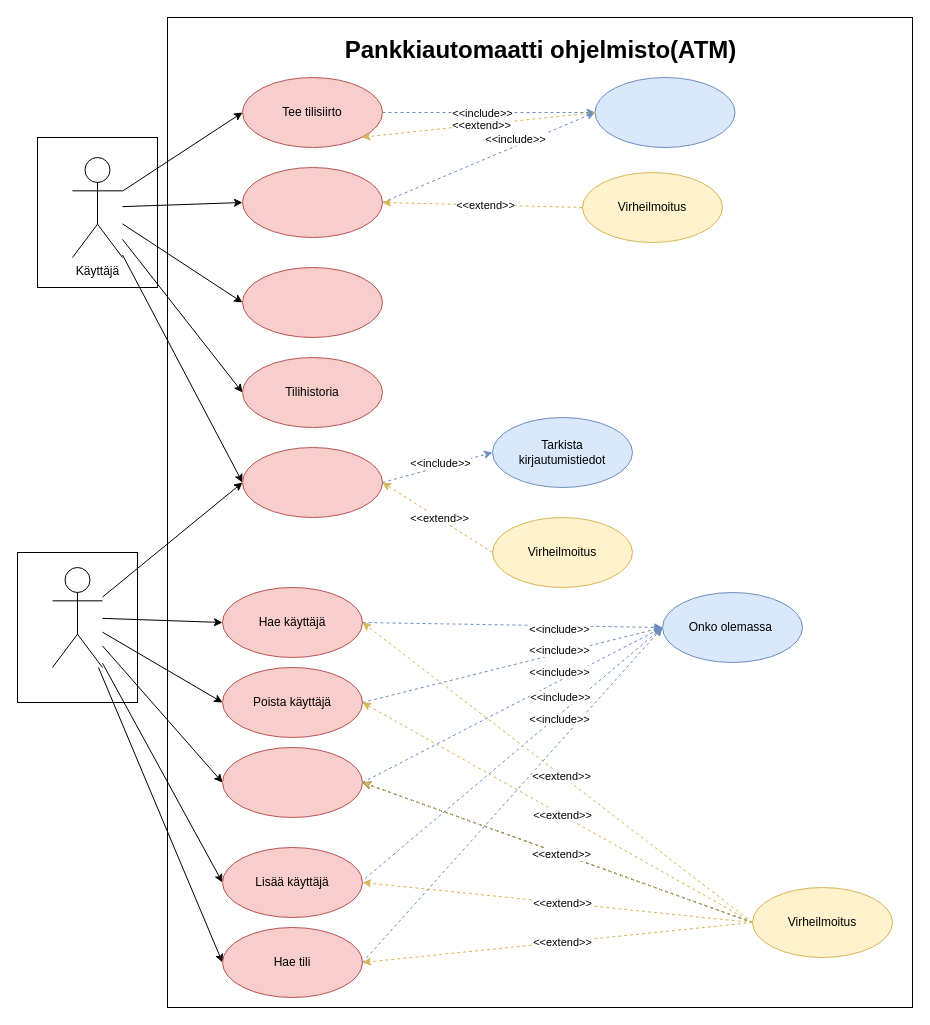
Image size: 930x1025. Some labels were removed from this diagram. The centre of each missing label's shape, as x and y in pixels:
Admin: pixel 77 617
Hae kaikki käyttäjät: pixel 292 782
Kirjaudu sisään: pixel 312 482
Nosta rahaa: pixel 312 202
Talleta rahaa: pixel 312 302
Tarkista saldo: pixel 664 112
